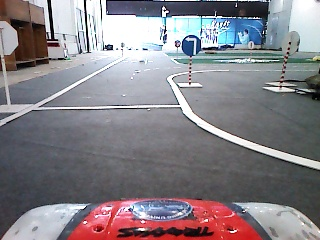turn: (180, 34, 203, 57)
